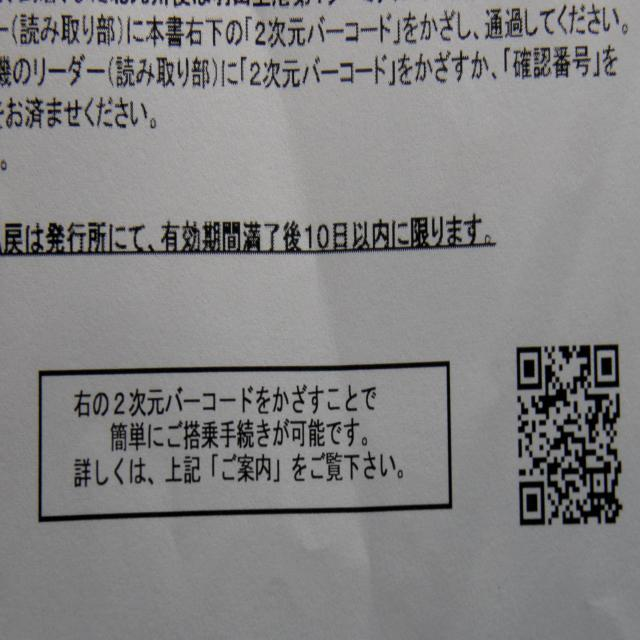qr-code: (516, 344, 623, 525)
